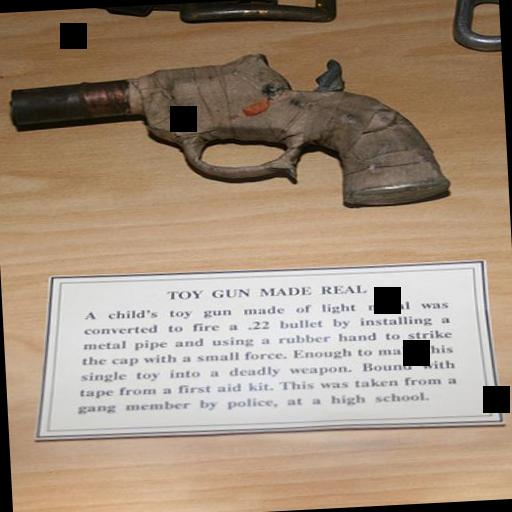Handgun: (4, 43, 450, 224)
